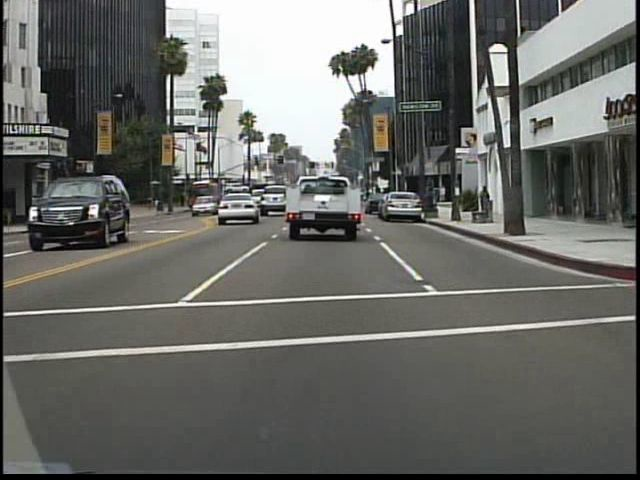person: (476, 182, 494, 217), (146, 191, 156, 214)
